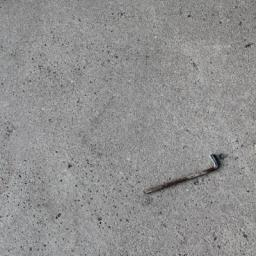FOD: (141, 154, 226, 197)
